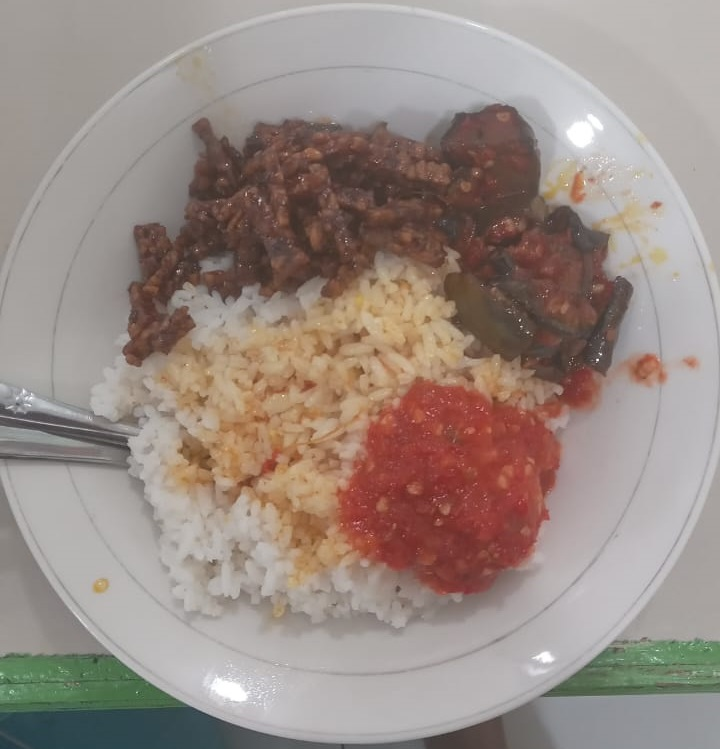Nasi: (117, 359, 354, 586)
Sambel: (374, 401, 575, 572)
Sambel_terong: (466, 109, 659, 357)
Tempe_orek: (77, 135, 434, 275)
